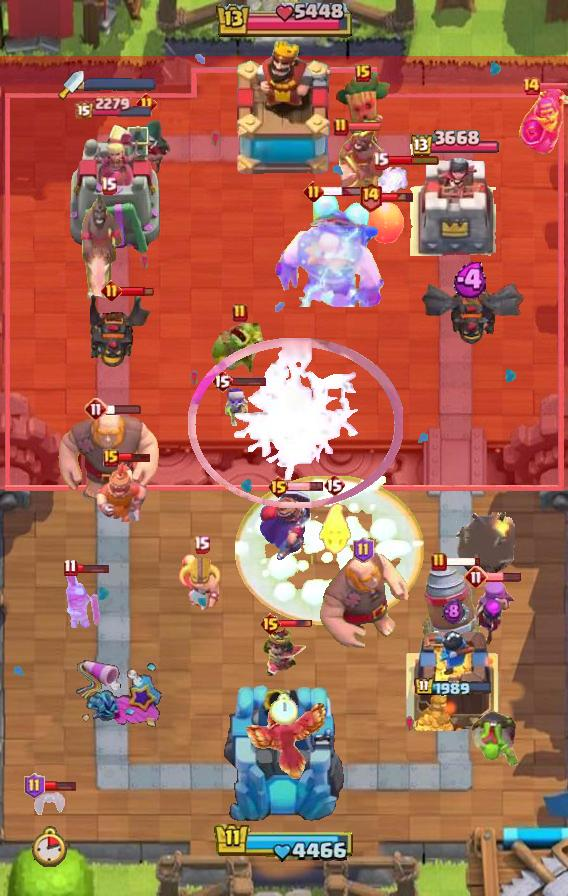archer-evolution: (420, 281, 524, 345), (90, 291, 156, 369)
baby-dragon: (457, 513, 516, 575)
balloon: (55, 410, 163, 502), (316, 551, 410, 651)
bar: (67, 122, 161, 256)
bar-level: (469, 708, 519, 768)
barbarian-barrel: (33, 788, 65, 818)
barbarian-evolution: (189, 337, 404, 509)
bat-evolution: (316, 502, 352, 556)
bomber-evolution: (261, 628, 307, 680)
clock: (214, 821, 354, 862), (214, 4, 354, 41)
earthquake: (97, 455, 149, 523)
electro-spirit: (453, 262, 491, 298), (442, 599, 463, 626)
elixir: (31, 825, 67, 866), (270, 695, 298, 726)
elixir-golem-big: (258, 488, 328, 564)
emote: (387, 154, 440, 166), (321, 187, 373, 198), (346, 120, 382, 132), (231, 375, 267, 387), (106, 403, 142, 415), (486, 571, 522, 583), (380, 191, 415, 203), (119, 285, 154, 297), (75, 562, 110, 574), (43, 780, 77, 792), (287, 481, 324, 492), (445, 556, 482, 567), (116, 453, 152, 464), (279, 619, 313, 629), (540, 81, 568, 91)
firecracker-evolution: (516, 86, 567, 155)
flying-machine: (211, 323, 269, 377)
freeze: (79, 193, 137, 305), (327, 127, 385, 213)
goblin: (221, 386, 253, 428)
goblin-barrel: (334, 72, 392, 152)
goblin-giant: (178, 553, 224, 613)
golden-knight: (241, 697, 327, 779)
hog: (366, 201, 406, 245)
ice-spirit-evolution: (374, 164, 410, 200)
king-tower: (221, 682, 347, 826), (228, 41, 340, 181)
king-tower-bar: (84, 77, 156, 91)
little-prince: (273, 193, 385, 307)
magic-archer: (422, 559, 482, 653)
phoenix-big: (234, 475, 426, 624)
princess: (64, 571, 102, 633)
queen-tower: (405, 621, 501, 731), (410, 156, 496, 256)
rascal-girl: (464, 579, 516, 649)
selected: (409, 129, 500, 158), (74, 95, 154, 119), (414, 677, 494, 699)
tesla: (120, 119, 172, 175)
text: (357, 181, 382, 211), (84, 397, 108, 421), (464, 565, 488, 589), (353, 537, 375, 563), (267, 475, 290, 499), (258, 612, 281, 636), (23, 773, 44, 799), (211, 369, 233, 393), (323, 473, 345, 497), (135, 93, 156, 114), (304, 182, 325, 203), (101, 280, 122, 301), (521, 76, 541, 96), (371, 150, 389, 169), (99, 176, 117, 195), (193, 535, 211, 553), (333, 117, 349, 137), (232, 303, 248, 323), (431, 552, 447, 572), (355, 64, 371, 82), (103, 449, 119, 467), (62, 559, 77, 578)
